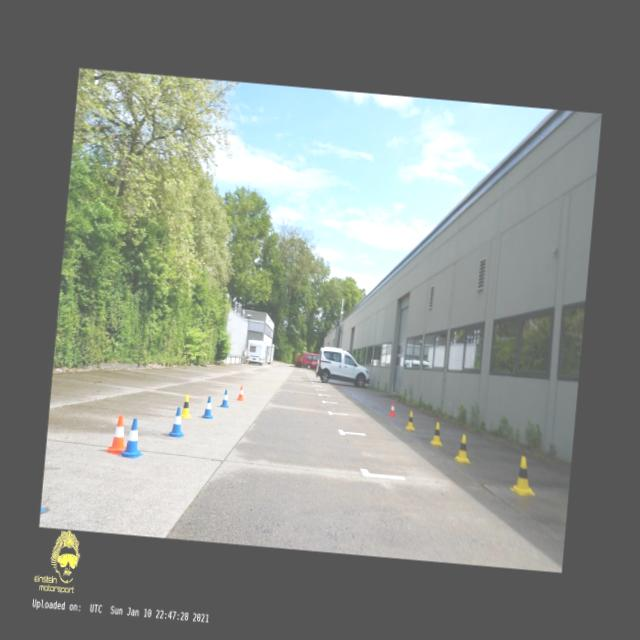blue_cone: (118, 418, 145, 458), (167, 407, 186, 438), (202, 396, 214, 418), (220, 389, 230, 407)
orange_cone: (103, 413, 129, 454), (388, 401, 396, 416), (237, 385, 244, 400)
yellow_cone: (510, 456, 538, 496), (454, 433, 472, 462), (430, 421, 444, 445), (180, 393, 192, 418), (406, 411, 416, 430)
